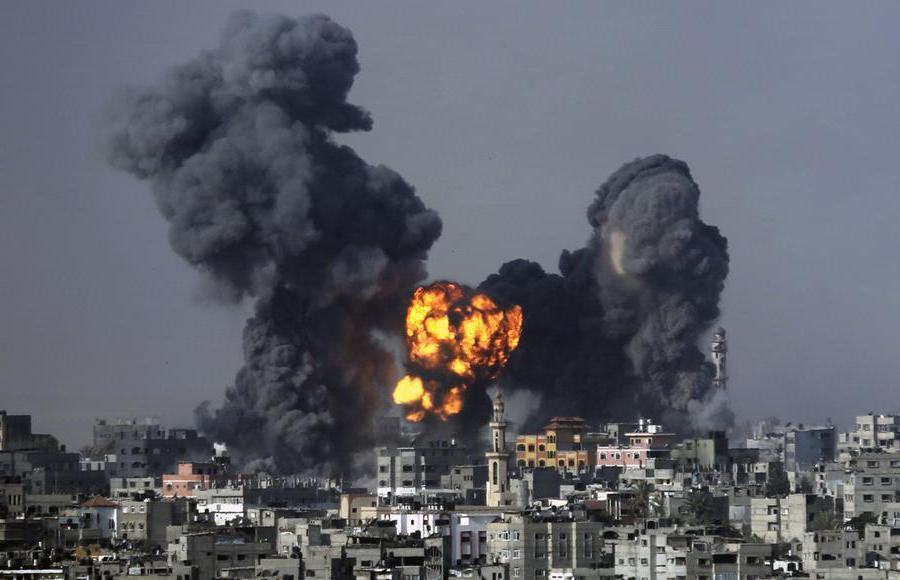Fire: (389, 278, 531, 431)
